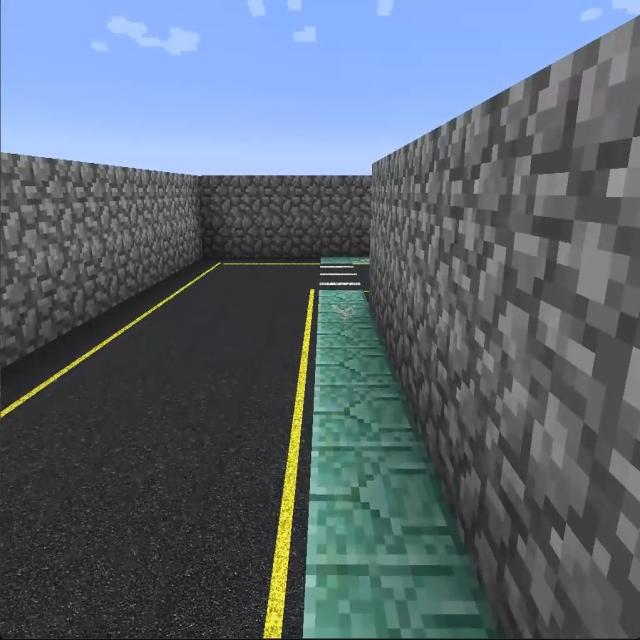crosswalk: (318, 262, 363, 288)
road: (6, 254, 319, 631)
sidewalk: (302, 291, 498, 639)
